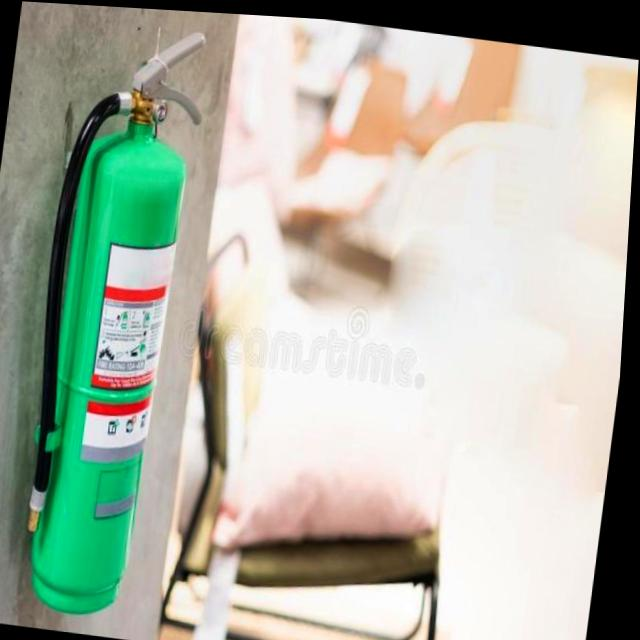FireExtinguisher: (5, 6, 218, 627)
